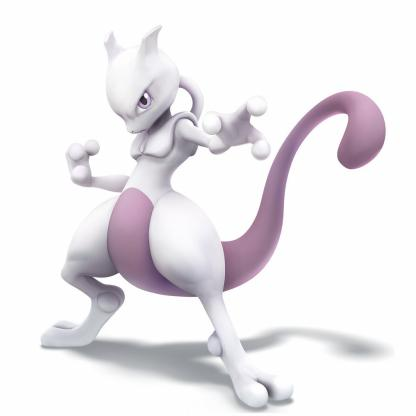Mewtwo: (1, 32, 416, 416)
